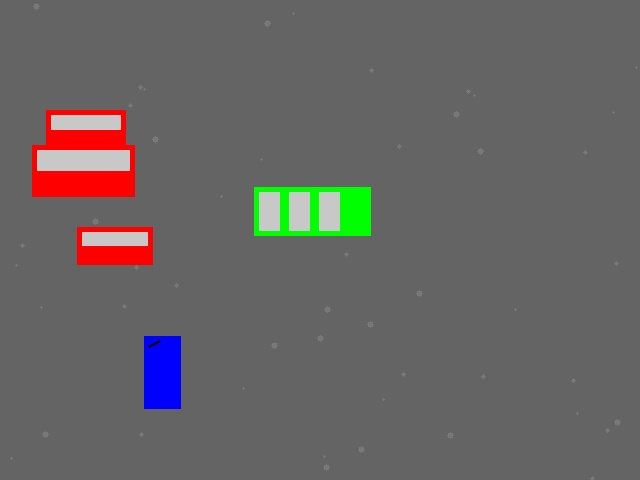bus: (254, 187, 370, 235)
car: (32, 145, 134, 196), (46, 110, 125, 149), (77, 227, 152, 264)
motorcycle: (144, 336, 180, 408)
